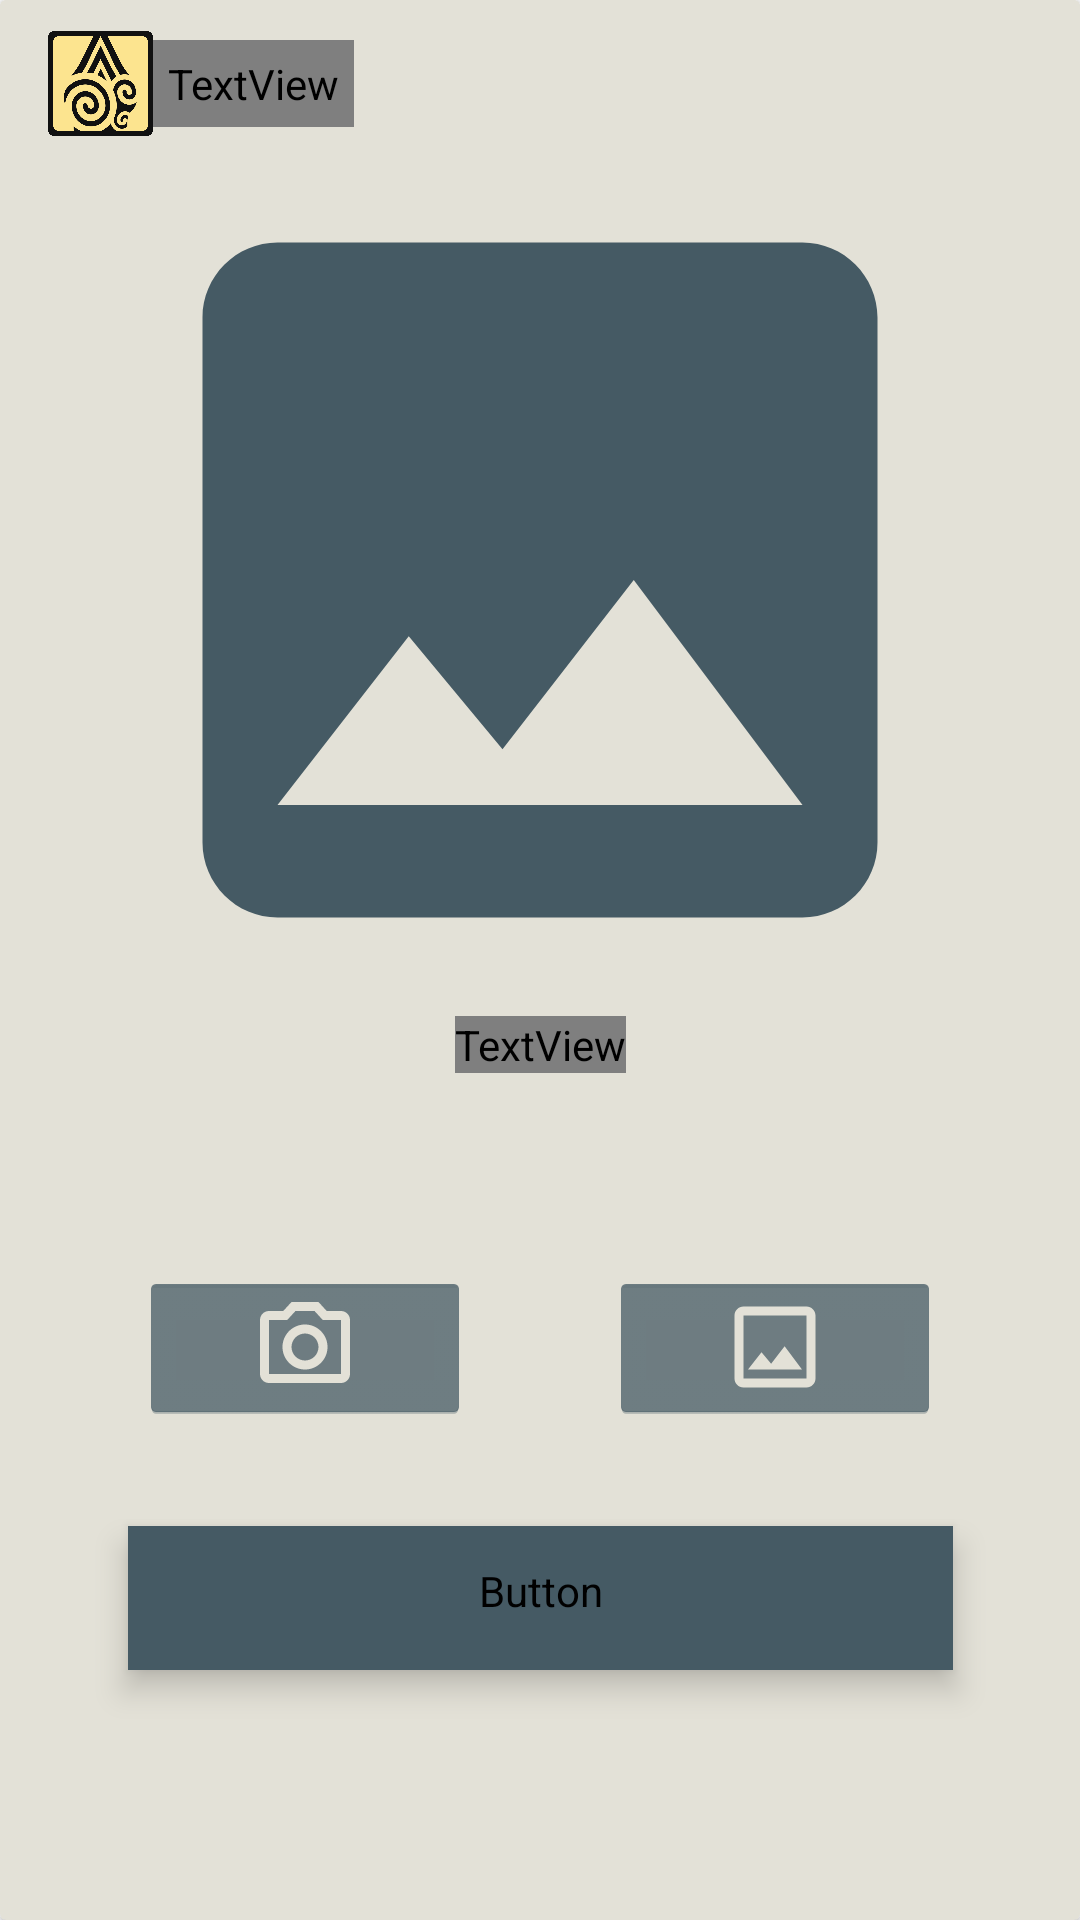

Where to tap for icons on this 1080x1920 app screen, as point (x, y):
Camera: point (305, 1349)
Gallery: point (775, 1349)
